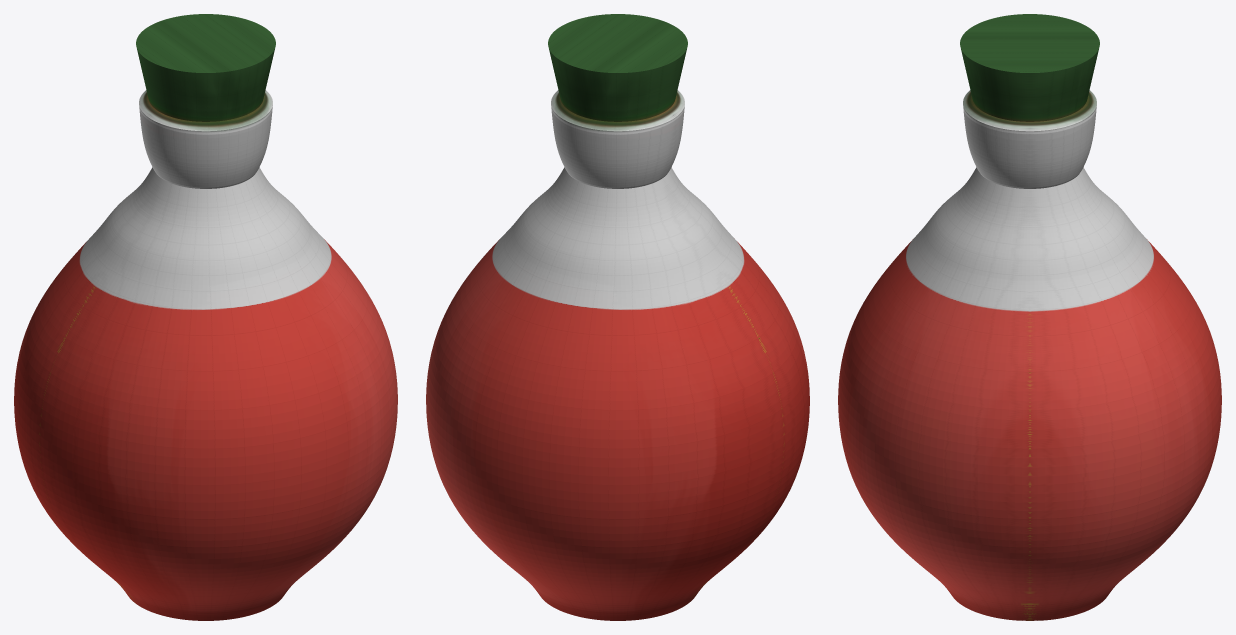
3 views of the same model, side by side, from view 1: azimuth 30°, elevation 25°; view 2: azimuth 150°, elevation 25°; view 3: azimuth 270°, elevation 25° (orthographic).
Parts seen in each view (by area): view 1: Potion; view 2: Potion; view 3: Potion.
Part boxes in pixels (x1,y1,x2,y2): Potion: [14, 14, 397, 620]; Potion: [426, 14, 809, 620]; Potion: [838, 14, 1221, 620].
Size of the model in its own units: 175 by 273 by 175.
1 material, 1 textured.
